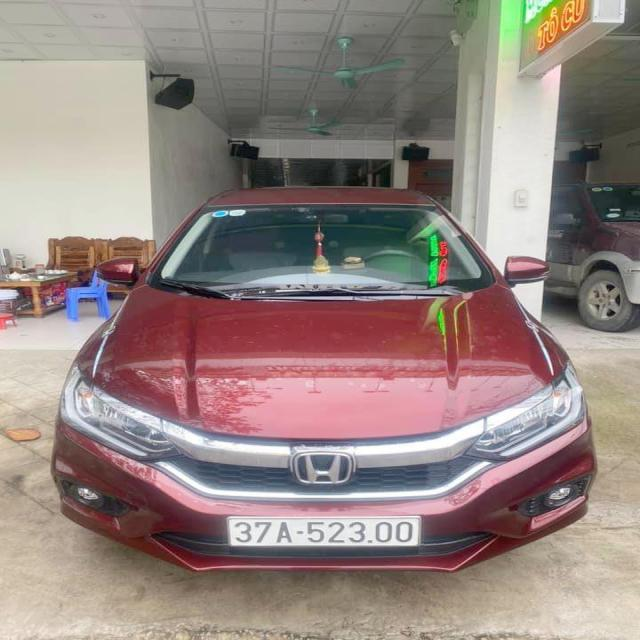car: (49, 188, 593, 582), (550, 12, 640, 368)
plate: (223, 502, 429, 556)
